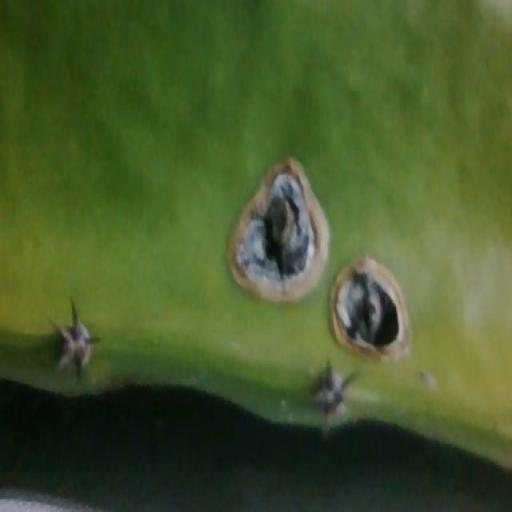stemcanker: (411, 363, 442, 393)
